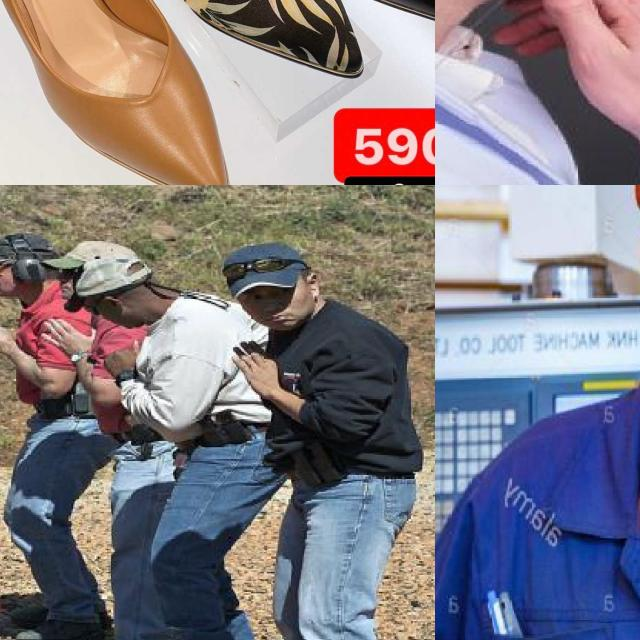Sandals: (0, 0, 241, 185), (68, 0, 384, 119)
face_nomask: (248, 288, 302, 326)
glasses: (64, 241, 273, 640), (229, 235, 422, 640), (0, 231, 106, 640), (218, 254, 312, 271)
hand_noglove: (483, 0, 640, 152), (225, 336, 283, 398), (41, 314, 101, 360), (0, 314, 22, 355)
head_nohelmet: (65, 251, 147, 307), (228, 243, 310, 299), (0, 228, 57, 274)
person: (467, 185, 640, 640), (435, 0, 640, 185)
shoes: (12, 608, 106, 640)
